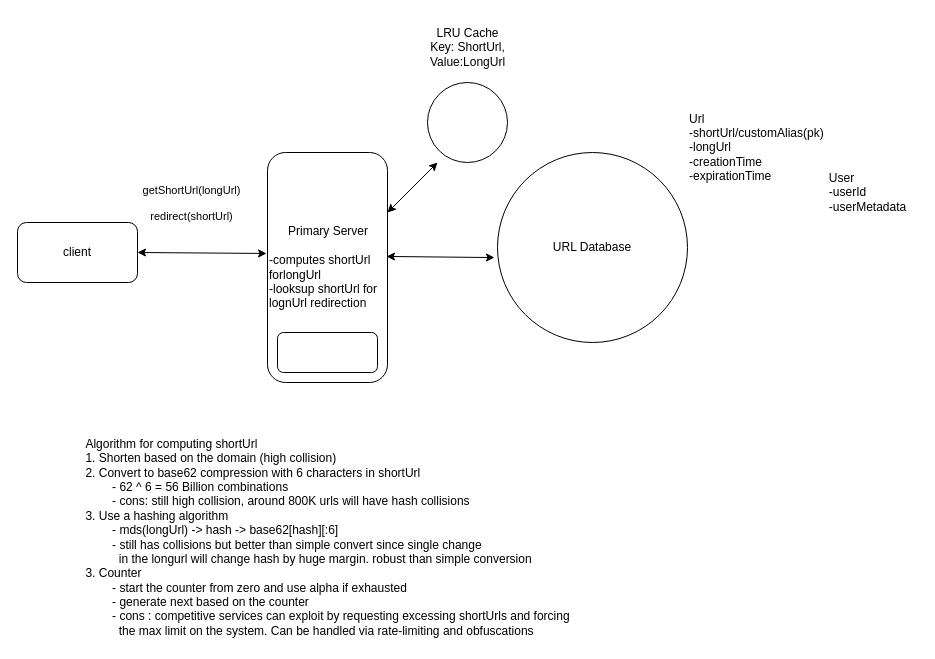
The diagram is 935 pixels wide and 659 high, and some of its shapes have lost their labels. The centre of each missing label's shape, as x and y in pixels:
"Cache (Redis)" goes at point (467, 122).
"Counter" goes at point (327, 352).
